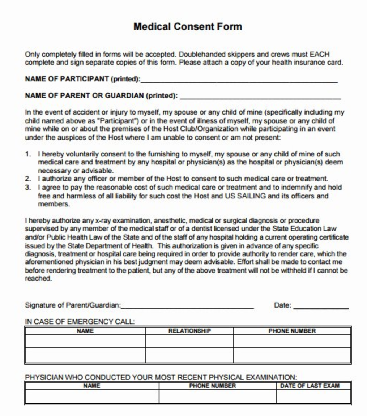textbox: (23, 388, 162, 407), (158, 387, 279, 406), (230, 333, 353, 351), (23, 333, 149, 350), (23, 348, 147, 365), (232, 347, 353, 364), (143, 346, 236, 365), (142, 333, 237, 351), (276, 389, 353, 406)
textline: (139, 73, 341, 87), (119, 296, 257, 313), (178, 89, 343, 102), (292, 298, 353, 314)
